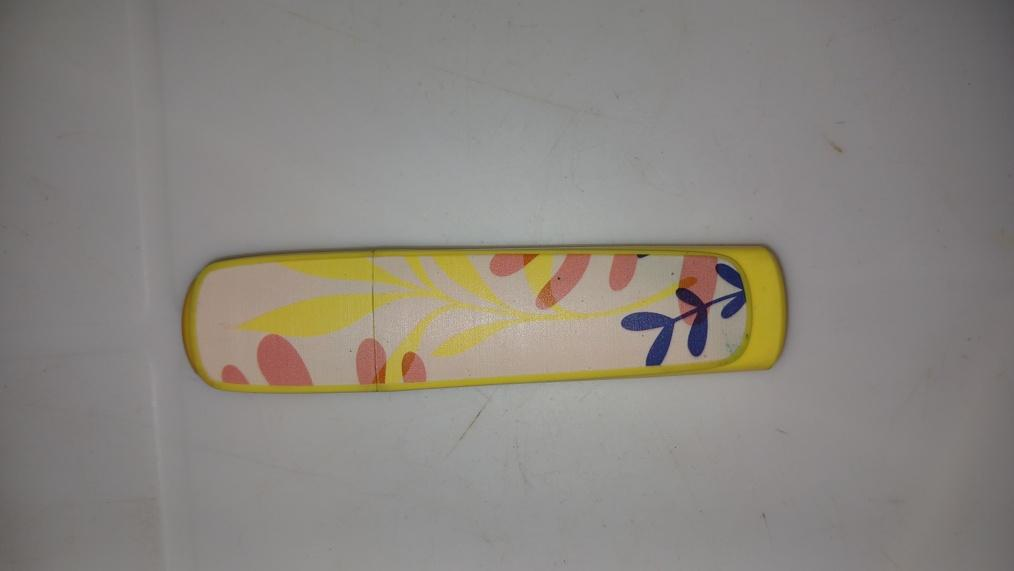Highlighter: (174, 247, 791, 394)
